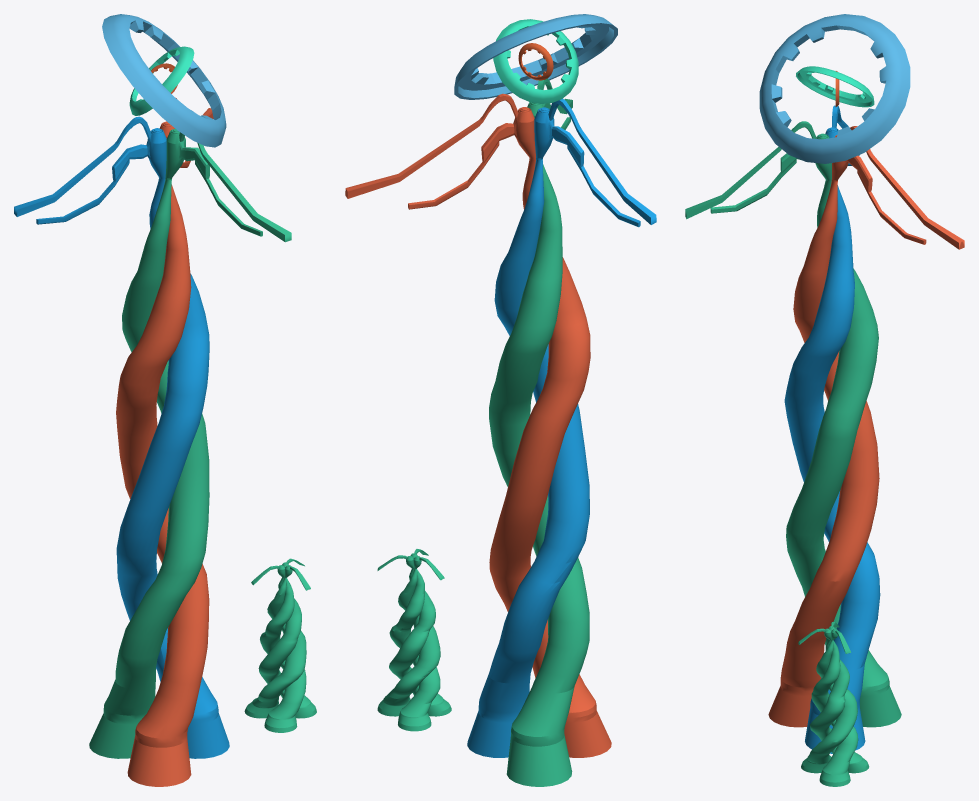
The model's file is AM_tree.fbx.
3 renders of one model, left to right at view 1: azimuth 30°, elevation 25°; view 2: azimuth 150°, elevation 25°; view 3: azimuth 270°, elevation 25°, orthographic. The views are drawn at different scales.
Visible parts, largest first — view 1: pasted__pCylinder1, pasted__pCylinder2, pCylinder1, ring03, pasted__pasted__pCylinder2, pasted__pasted__pCylinder1, pasted__pCylinder1.001, ring02; view 2: pCylinder1, pasted__pCylinder1, pasted__pCylinder2, ring03, pasted__pasted__pCylinder1, pasted__pCylinder1.001, ring02, pasted__pasted__pCylinder2, ring01; view 3: pasted__pCylinder2, pasted__pCylinder1, pCylinder1, ring03, pasted__pCylinder1.001, pasted__pasted__pCylinder2, pasted__pasted__pCylinder1, ring02.
Part boxes in pixels (x1,y1,x2,y2): pasted__pCylinder1: (89, 128, 291, 758); pasted__pCylinder2: (116, 97, 213, 786); pCylinder1: (14, 116, 229, 758); ring03: (102, 14, 226, 147); pasted__pasted__pCylinder2: (260, 558, 306, 732); pasted__pasted__pCylinder1: (244, 565, 310, 718); pasted__pCylinder1.001: (251, 565, 316, 718); ring02: (129, 46, 194, 115); pCylinder1: (467, 98, 656, 757); pasted__pCylinder1: (489, 78, 589, 786); pasted__pCylinder2: (345, 93, 611, 757); ring03: (454, 14, 617, 99); pasted__pasted__pCylinder1: (389, 549, 440, 731); pasted__pCylinder1.001: (377, 556, 444, 716); ring02: (493, 19, 578, 103); pasted__pasted__pCylinder2: (377, 555, 451, 716); ring01: (518, 43, 553, 80); pasted__pCylinder2: (768, 126, 964, 727); pasted__pCylinder1: (685, 121, 901, 727); pCylinder1: (784, 105, 880, 753); ring03: (759, 14, 910, 163); pasted__pCylinder1.001: (811, 622, 858, 786); pasted__pasted__pCylinder2: (801, 628, 857, 773); pasted__pasted__pCylinder1: (798, 628, 869, 773); ring02: (796, 66, 874, 107).
Size of what is drawn, in the model's own units: 1976 by 4861 by 1784.
